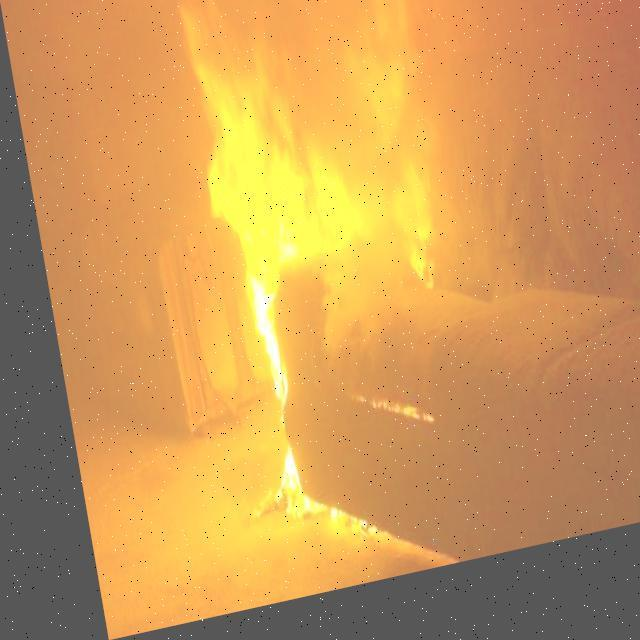Fire: (167, 0, 461, 576)
